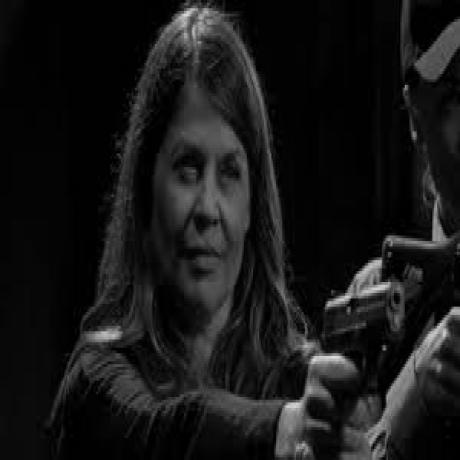Guns: (323, 266, 407, 396)
